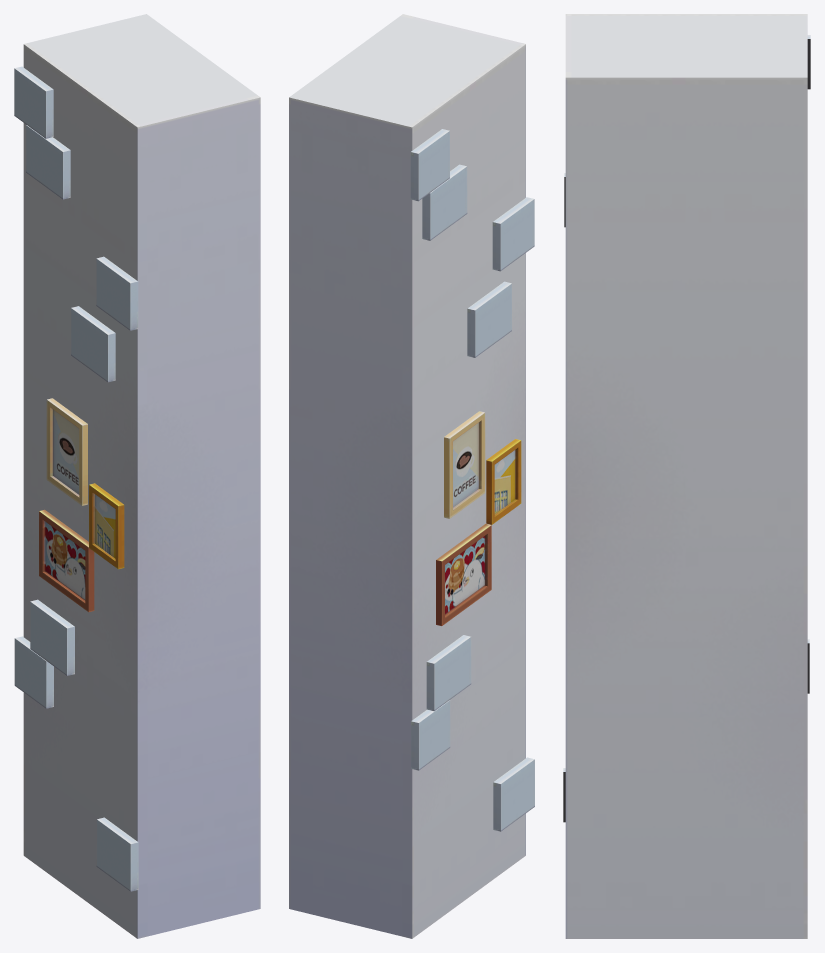
File: my_cafe_01_b_wall_03.glb
3 views of the same model, side by side, from view 1: azimuth 30°, elevation 25°; view 2: azimuth 150°, elevation 25°; view 3: azimuth 270°, elevation 25° (orthographic). The views are drawn at different scales.
Parts seen in each view (by area): view 1: my_cafe_01_b_wall_03; view 2: my_cafe_01_b_wall_03; view 3: my_cafe_01_b_wall_03.
Part boxes in pixels (<box>): my_cafe_01_b_wall_03: <box>14,14,260,938</box>; my_cafe_01_b_wall_03: <box>289,14,534,938</box>; my_cafe_01_b_wall_03: <box>563,14,810,938</box>.
Size of the model in its own units: 0.00765 by 0.0453 by 0.0118.
1 material, 1 textured.
